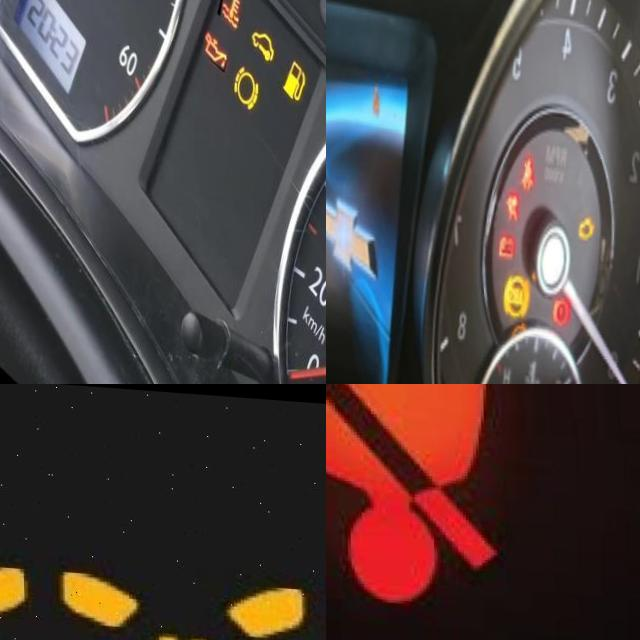Seat Belt: (326, 384, 561, 604)
Washer Fluid: (0, 559, 326, 640)
